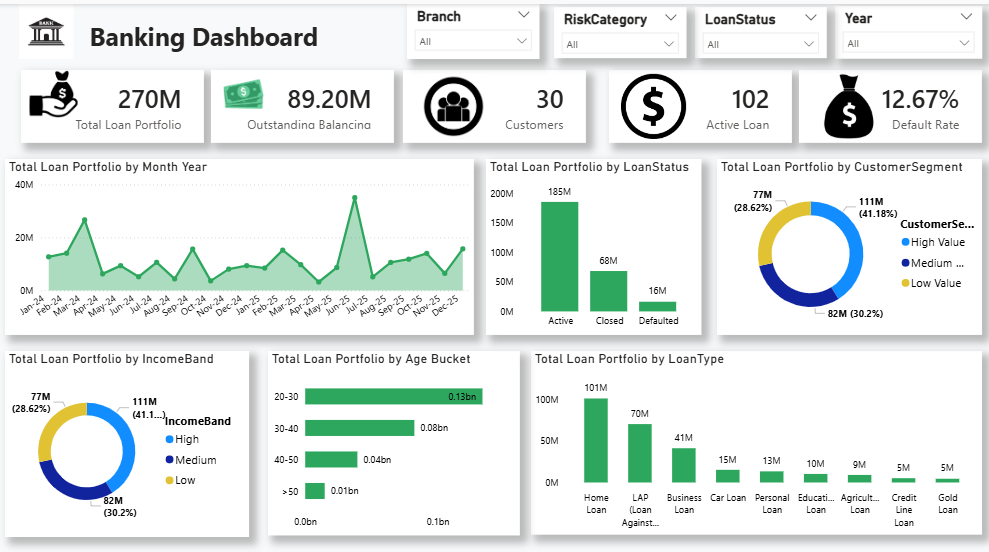

Layout of this report page (visuals, bound fields, positions):
{"tool":"powerbi","page":{"name":"Overview","canvas":[1280,720],"ordinal":0},"visuals":[{"type":"cardVisual","fields":{"Data":["Measure.Total Loan Portfolio"]},"box":[28.8,85,236.2,93.6],"z":0},{"type":"cardVisual","fields":{"Data":["Measure.Outstanding Balancing"]},"box":[273.6,85,236.2,93.6],"z":1000},{"type":"cardVisual","fields":{"Data":["Measure.Customers"]},"box":[521.3,85,236.2,93.6],"z":2000},{"type":"cardVisual","fields":{"Data":["Measure.Active Loan"]},"box":[787.7,85,236.2,93.6],"z":3000},{"type":"cardVisual","fields":{"Data":["Measure.Default Rate"]},"box":[1032.5,85,236.2,93.6],"z":4000},{"type":"areaChart","fields":{"Y":["Measure.Total Loan Portfolio"],"Category":["DataTabel.Month Year"]},"box":[8.3,200,605,226.7],"z":5000},{"type":"clusteredColumnChart","fields":{"Y":["Measure.Total Loan Portfolio"],"Category":["PROD.LoanType"]},"box":[686.7,448.3,581.7,236.7],"z":6000},{"type":"donutChart","fields":{"Category":["CUST.CustomerSegment"],"Y":["Measure.Total Loan Portfolio"]},"box":[926.7,200,341.7,226.7],"z":7000},{"type":"donutChart","fields":{"Y":["Measure.Total Loan Portfolio"],"Category":["CUST.IncomeBand"]},"box":[8.3,448.3,315,240],"z":8000},{"type":"clusteredBarChart","fields":{"Category":["CUST.Age Bucket"],"Y":["Measure.Total Loan Portfolio"]},"box":[346.7,448.3,325,238.3],"z":9000},{"type":"clusteredColumnChart","fields":{"Y":["Measure.Total Loan Portfolio"],"Category":["Loan_Fact.LoanStatus"]},"box":[628.3,200,278.3,226.7],"z":10000},{"type":"slicer","fields":{"Values":["DataTabel.Year"]},"box":[1078.6,2.9,190.1,67.7],"z":11000},{"type":"slicer","fields":{"Values":["Loan_Fact.LoanStatus"]},"box":[898.6,4.3,169.9,66.2],"z":12000},{"type":"slicer","fields":{"Values":["PROD.RiskCategory"]},"box":[715.7,4.3,171.4,66.2],"z":13000},{"type":"textbox","box":[99.4,14.4,329.8,56.2],"z":14000},{"type":"slicer","fields":{"Values":["Loan_Fact.Branch"]},"box":[527,0,171.4,70.6],"z":15000},{"type":"image","box":[8.6,0,103.7,70.6],"z":16000},{"type":"image","box":[28.8,85,83.5,61.9],"z":17000},{"type":"image","box":[273.6,85,83.5,61.9],"z":18000},{"type":"image","box":[544.3,85,83.5,93.6],"z":19000},{"type":"image","box":[1055.5,85,83.5,93.6],"z":19001},{"type":"image","box":[802.1,85,83.5,93.6],"z":19002}]}

Visuals, with their boxes in screenshot pixels (x1, y1, x2, y2), scaled from the page's 1280x720 canvas onto the 989x552 screenshot:
cardVisual - Measure.Total Loan Portfolio: (left=22, top=65, right=205, bottom=137)
cardVisual - Measure.Outstanding Balancing: (left=211, top=65, right=394, bottom=137)
cardVisual - Measure.Customers: (left=403, top=65, right=585, bottom=137)
cardVisual - Measure.Active Loan: (left=609, top=65, right=791, bottom=137)
cardVisual - Measure.Default Rate: (left=798, top=65, right=980, bottom=137)
areaChart - Measure.Total Loan Portfolio x DataTabel.Month Year: (left=6, top=153, right=474, bottom=327)
clusteredColumnChart - Measure.Total Loan Portfolio x PROD.LoanType: (left=531, top=344, right=980, bottom=525)
donutChart - CUST.CustomerSegment x Measure.Total Loan Portfolio: (left=716, top=153, right=980, bottom=327)
donutChart - Measure.Total Loan Portfolio x CUST.IncomeBand: (left=6, top=344, right=250, bottom=528)
clusteredBarChart - CUST.Age Bucket x Measure.Total Loan Portfolio: (left=268, top=344, right=519, bottom=526)
clusteredColumnChart - Measure.Total Loan Portfolio x Loan_Fact.LoanStatus: (left=485, top=153, right=700, bottom=327)
slicer - DataTabel.Year: (left=833, top=2, right=980, bottom=54)
slicer - Loan_Fact.LoanStatus: (left=694, top=3, right=826, bottom=54)
slicer - PROD.RiskCategory: (left=553, top=3, right=685, bottom=54)
textbox: (left=77, top=11, right=332, bottom=54)
slicer - Loan_Fact.Branch: (left=407, top=0, right=540, bottom=54)
image: (left=7, top=0, right=87, bottom=54)
image: (left=22, top=65, right=87, bottom=113)
image: (left=211, top=65, right=276, bottom=113)
image: (left=421, top=65, right=485, bottom=137)
image: (left=816, top=65, right=880, bottom=137)
image: (left=620, top=65, right=684, bottom=137)
